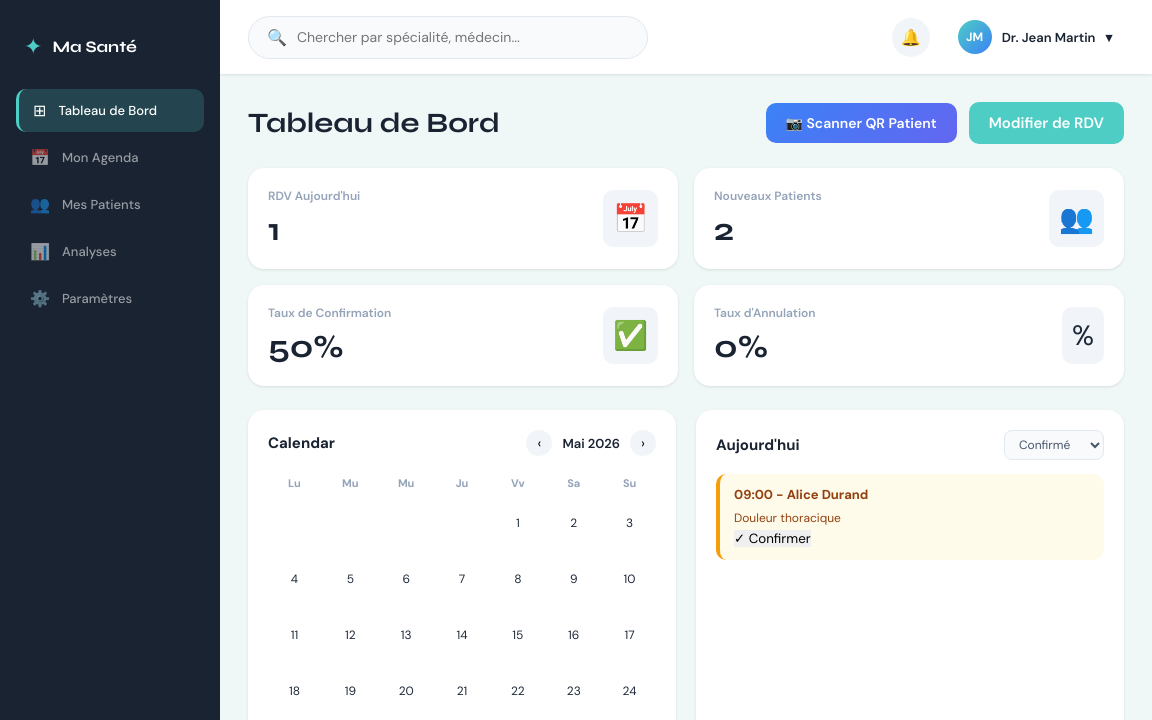
navigates to patients tab
Click the text "Mes Patients" at (101, 204), box [62, 196, 141, 213]
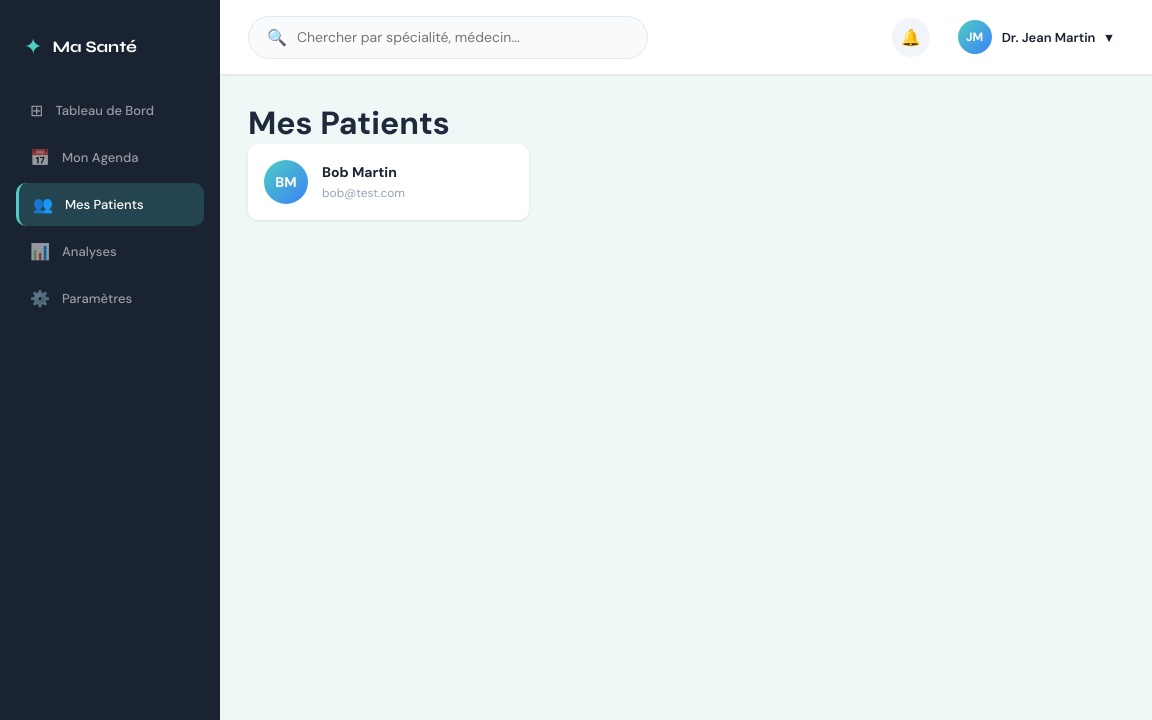
Expected: the text "bob@test.com" is shown, [322, 184, 405, 200]
